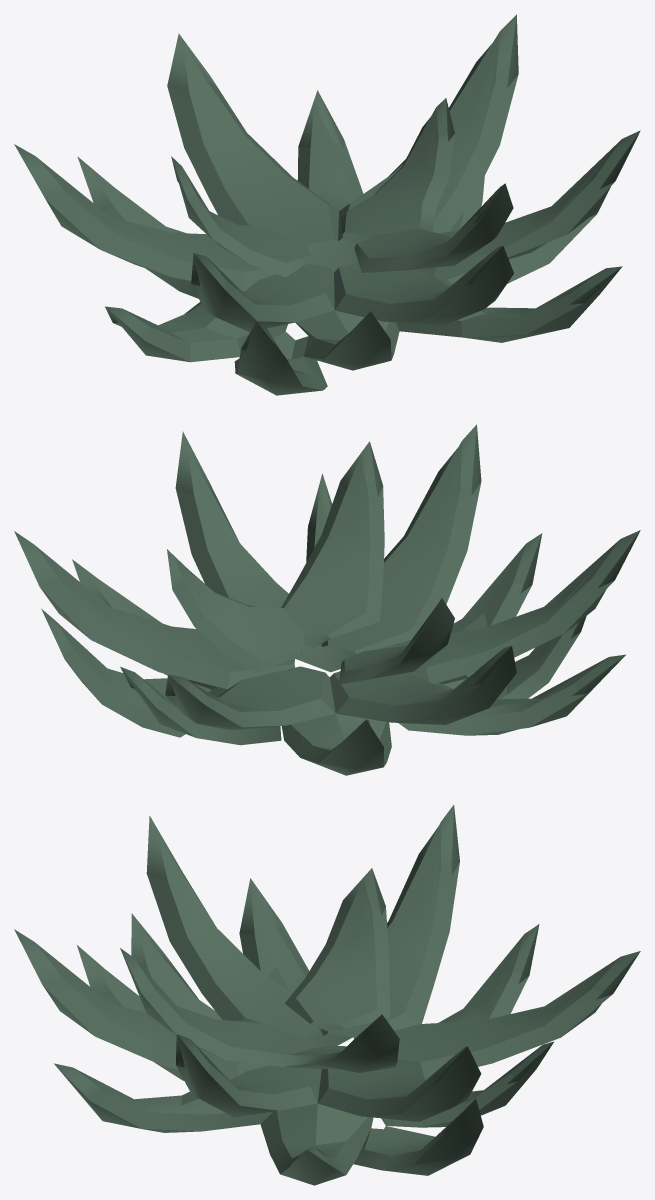
Rendered from LeafBundle.fbx.
3 views of the same model, one above another, from view 1: azimuth 30°, elevation 25°; view 2: azimuth 150°, elevation 25°; view 3: azimuth 270°, elevation 25° (orthographic). The views are drawn at different scales.
Parts seen in each view (by area): view 1: LeafBundleBody, LeafBundleTop; view 2: LeafBundleBody, LeafBundleTop; view 3: LeafBundleBody, LeafBundleTop.
Boxes of the visible parts, bbox=[...] form: LeafBundleBody: bbox=[14, 14, 640, 395]; LeafBundleTop: bbox=[171, 98, 513, 277]; LeafBundleBody: bbox=[14, 424, 640, 775]; LeafBundleTop: bbox=[167, 441, 454, 684]; LeafBundleBody: bbox=[14, 805, 640, 1185]; LeafBundleTop: bbox=[120, 868, 399, 1072].
Bounding box in the file's own units: 14.63 × 5.33 × 14.96.
